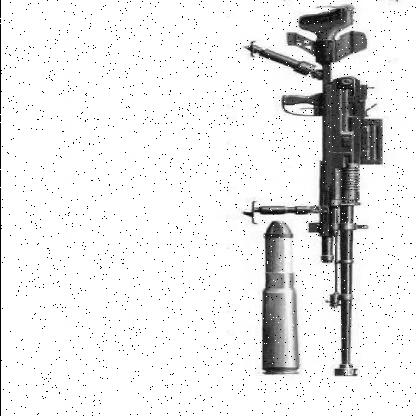rifle: (249, 4, 388, 393)
